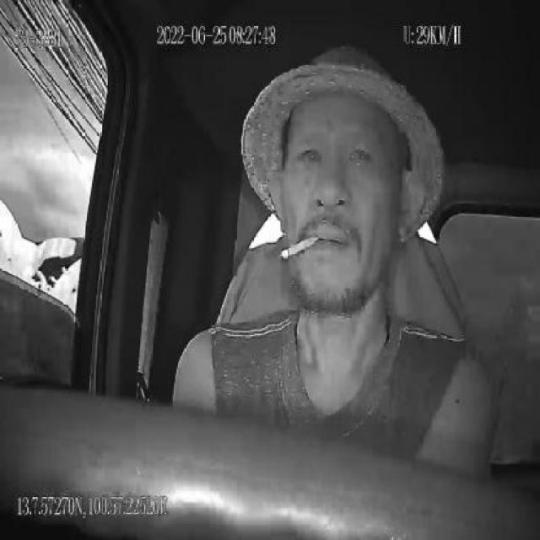smoking: (278, 230, 322, 264)
